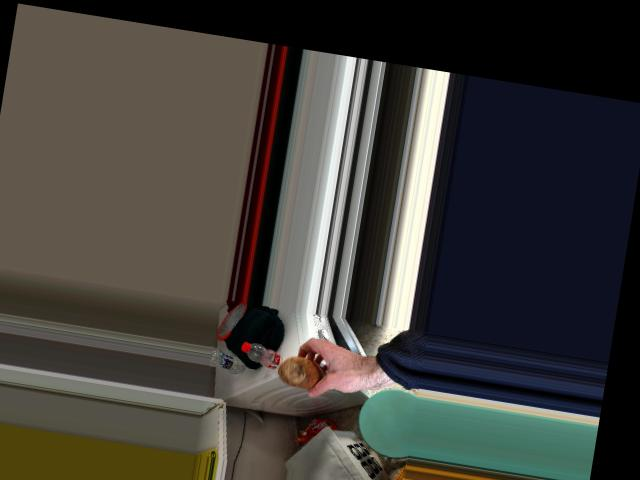sweet_potato: (277, 346, 334, 396)
